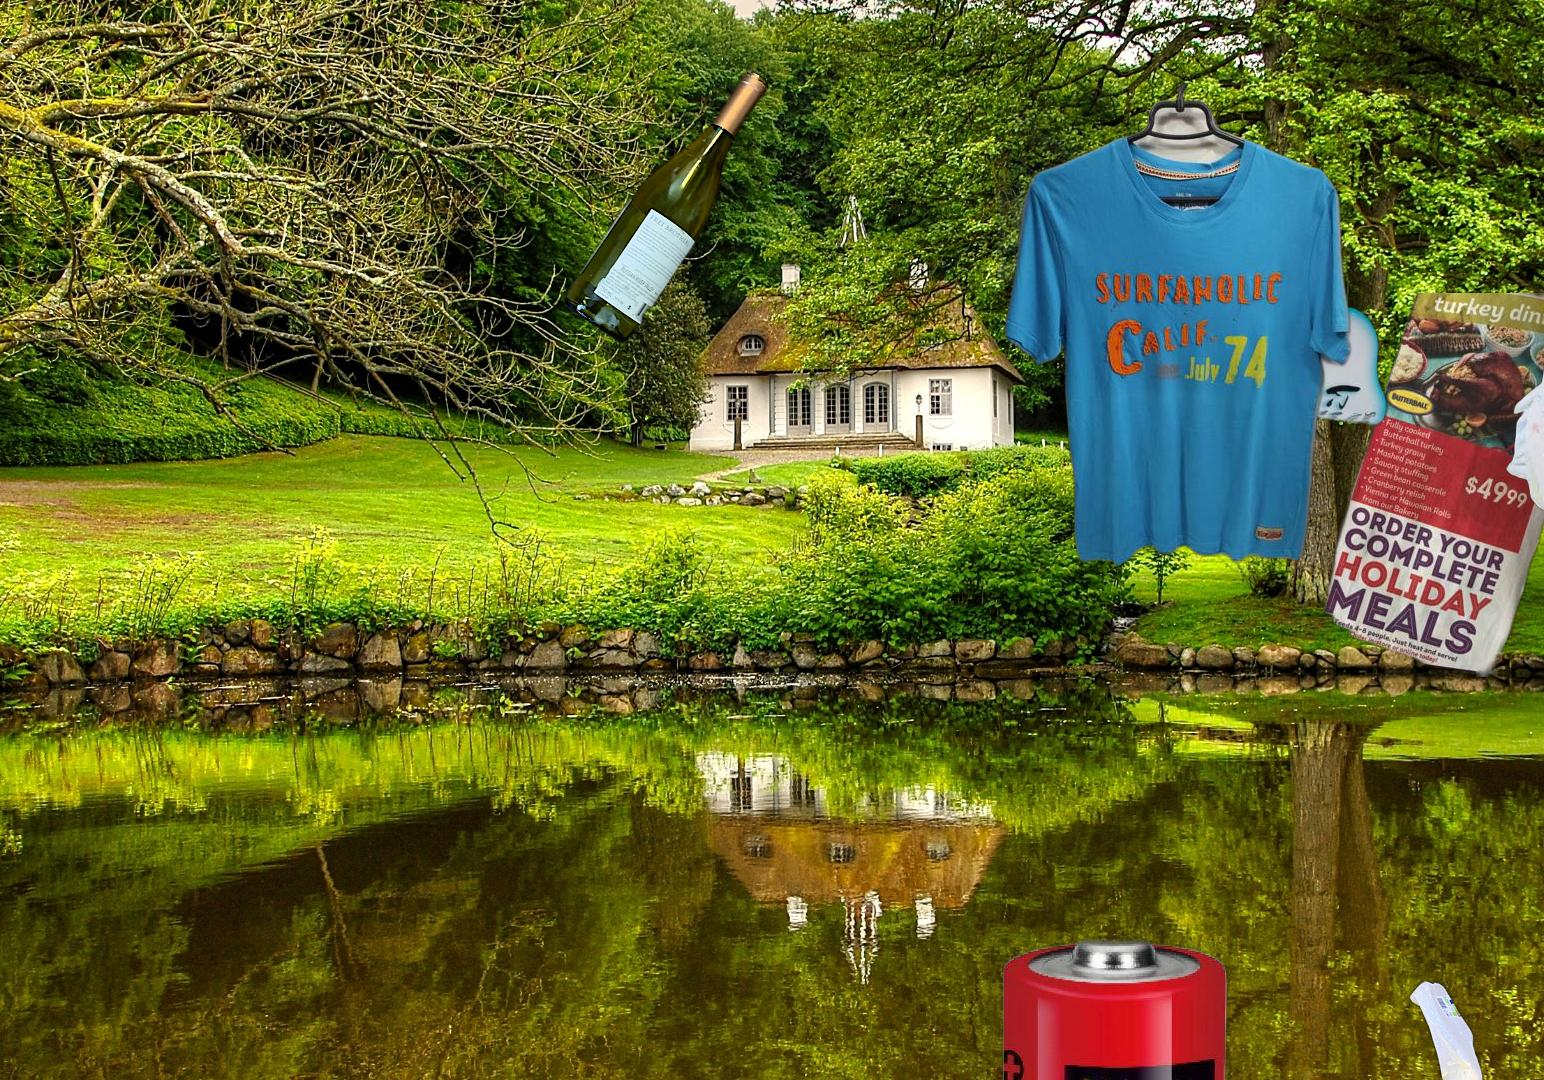battery: (1000, 930, 1231, 1080)
clothes: (1000, 84, 1354, 572)
glass: (997, 93, 1509, 477), (559, 64, 772, 348)
paper: (1099, 293, 1544, 677)
plastic-bottles: (1144, 974, 1488, 1080)
trash: (1503, 323, 1544, 525)
